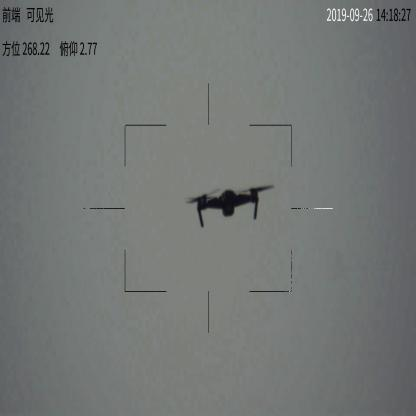uav: (179, 182, 273, 230)
